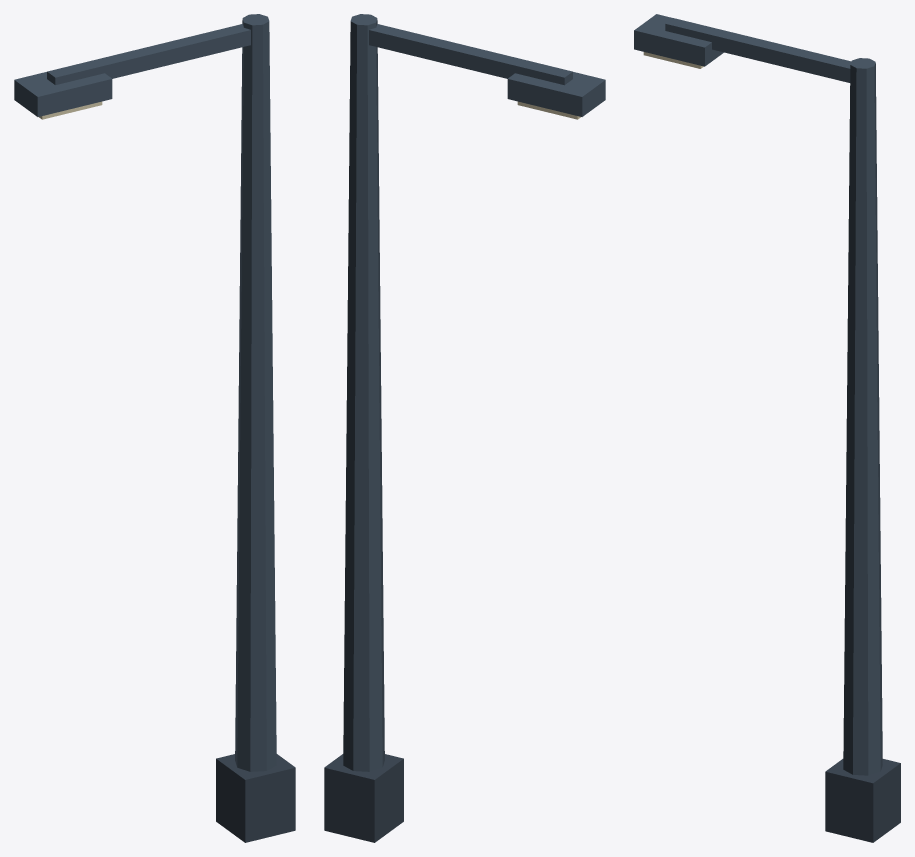
The model's file is sw_trk_lamppost.glb.
The picture shows the model from 3 angles, left to right: view 1: azimuth 30°, elevation 25°; view 2: azimuth 150°, elevation 25°; view 3: azimuth 330°, elevation 25°; orthographic projection. The views are drawn at different scales.
Parts seen in each view (by area): view 1: sw_trk_lamppost; view 2: sw_trk_lamppost; view 3: sw_trk_lamppost.
Part boxes in pixels (box(x1,y1,x2,y2)): sw_trk_lamppost: box(14, 14, 295, 842); sw_trk_lamppost: box(324, 14, 605, 842); sw_trk_lamppost: box(634, 14, 900, 842).
Bounding box in the file's own units: 2.12 × 6.4 × 0.4203.
